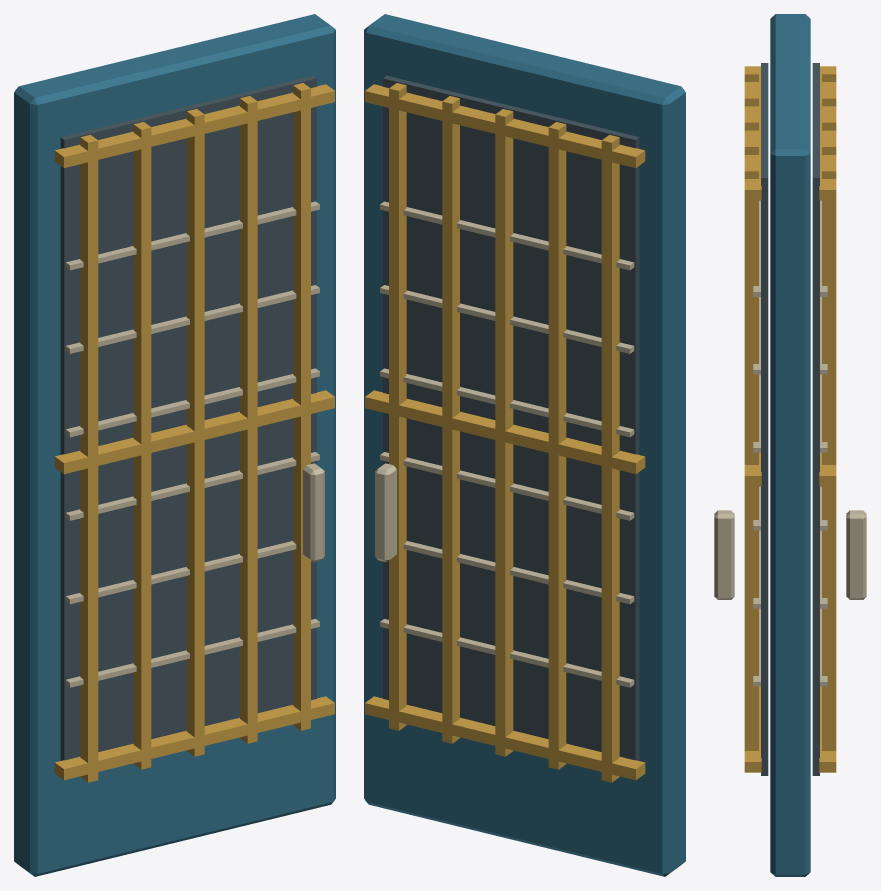
The model's file is door_chain_gate.glb.
3 renders of one model, left to right at view 1: azimuth 30°, elevation 25°; view 2: azimuth 150°, elevation 25°; view 3: azimuth 270°, elevation 25°, orthographic. The views are drawn at different scales.
Visible parts, largest first — view 1: door_chain_gate; view 2: door_chain_gate; view 3: door_chain_gate.
Part boxes in pixels (x1=…): door_chain_gate: x1=14, y1=14, x2=335, y2=876; door_chain_gate: x1=364, y1=14, x2=685, y2=876; door_chain_gate: x1=714, y1=14, x2=866, y2=876.
Bounding box in the file's own units: 1.15 × 2.8 × 0.53.
